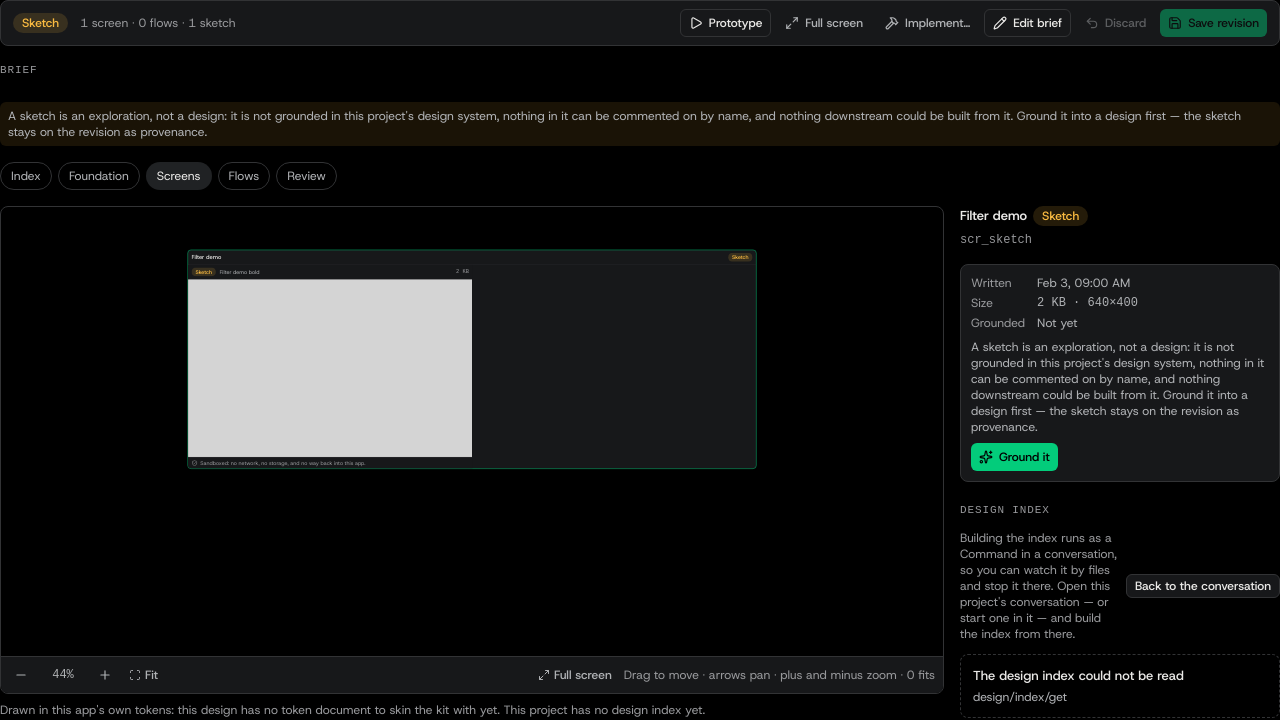
it: DesignDetail › says a sketch-only design cannot be approved or handed off, and reads the sketch into its sandboxed frame
The width and height of the screenshot is (1280, 720).
Check: the 1st message shows "A sketch is an exploration, not a design: it is not grounded in this project's design system, nothing in it can be commented on by name, and nothing downstream", box left=8, top=108, right=1241, bottom=140
Check: the message below "Not yet" shows "A sketch is an exploration, not a design: it is not grounded in this project's design system, nothing in it can be commented on by name, and nothing downstream", box left=971, top=339, right=1264, bottom=435
Click the button "Implement…" at [928, 23], box left=877, top=9, right=978, bottom=37
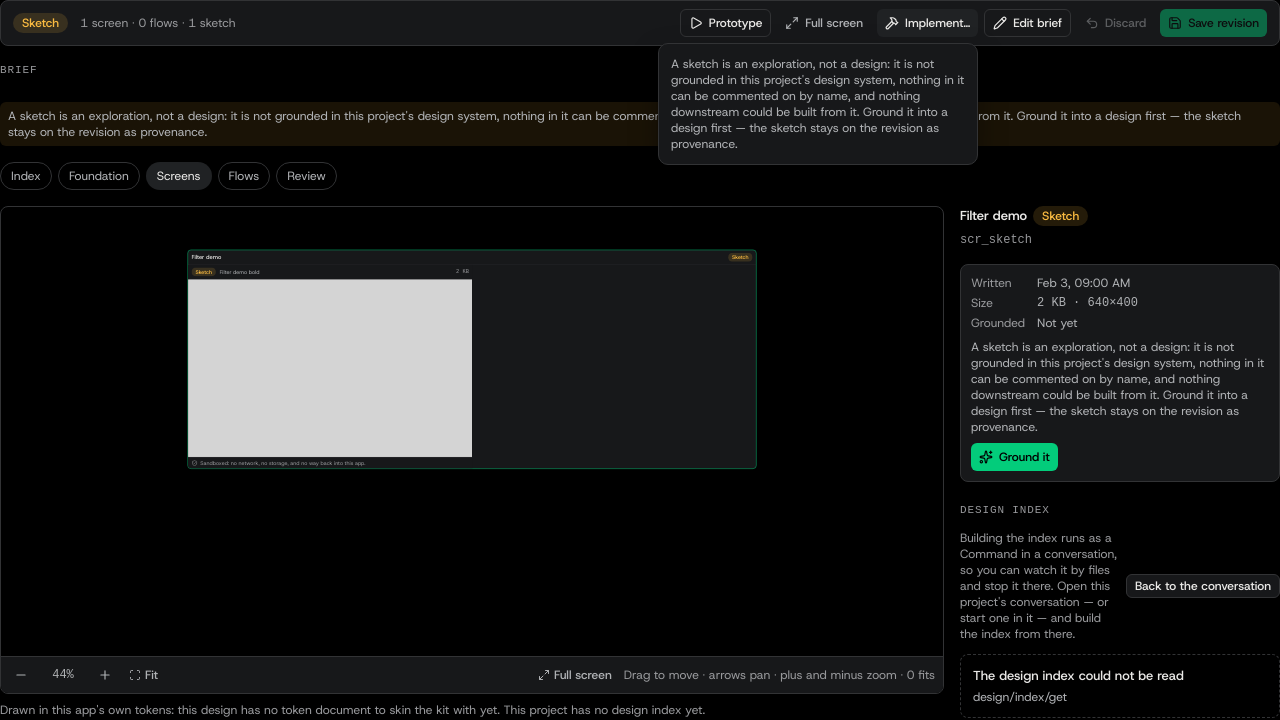
Check: the text "filter demo" is not shown
Check: the text "A sketch is an exploration, not a design: it is not grounded in this project's design system, nothing in it can be commented on by name, and nothing downstream" is shown, box left=671, top=56, right=964, bottom=152
